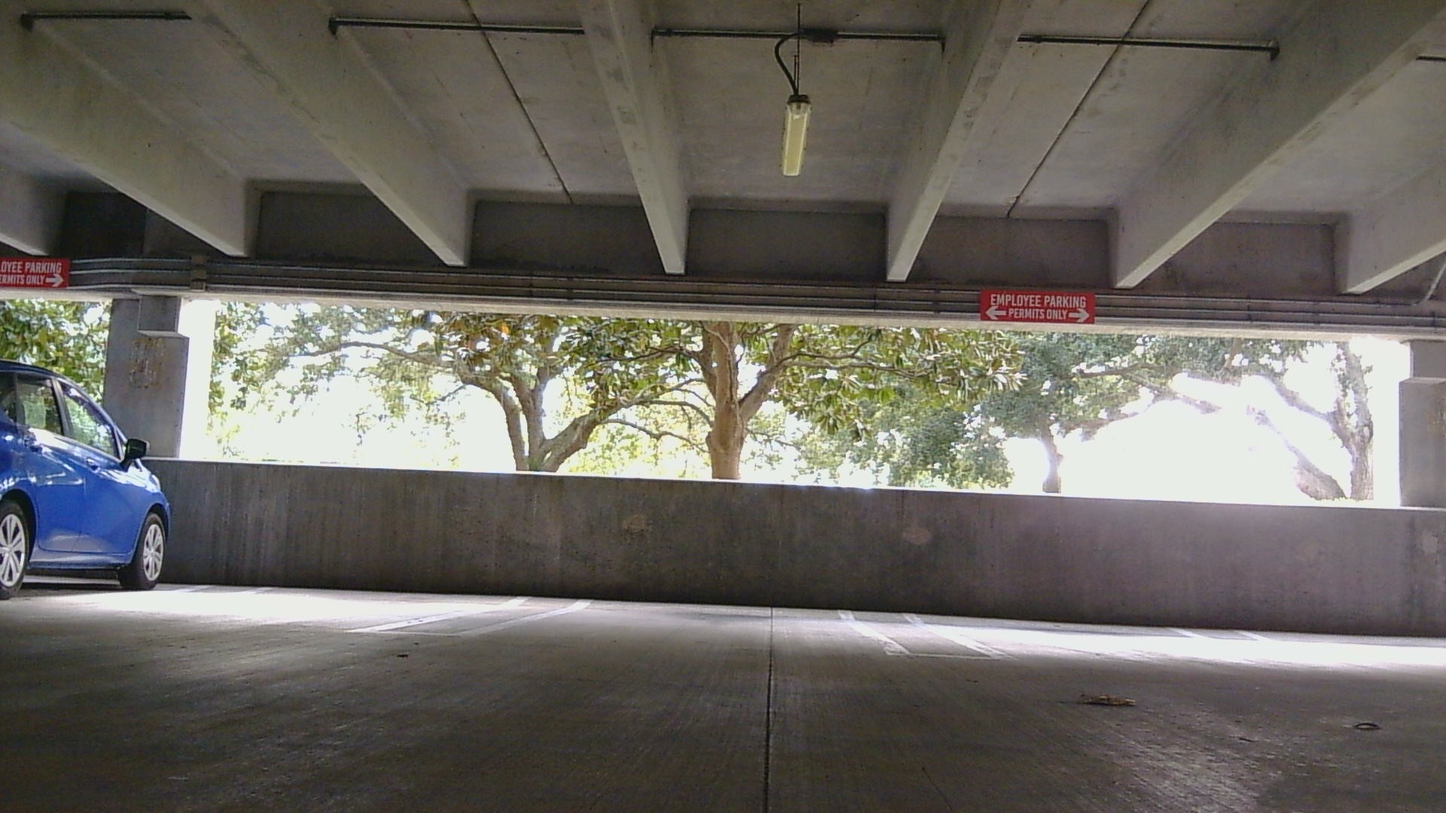empty_spot: (431, 503, 983, 670), (38, 483, 557, 648), (886, 537, 1446, 681)
occupied_spot: (0, 361, 173, 611)
